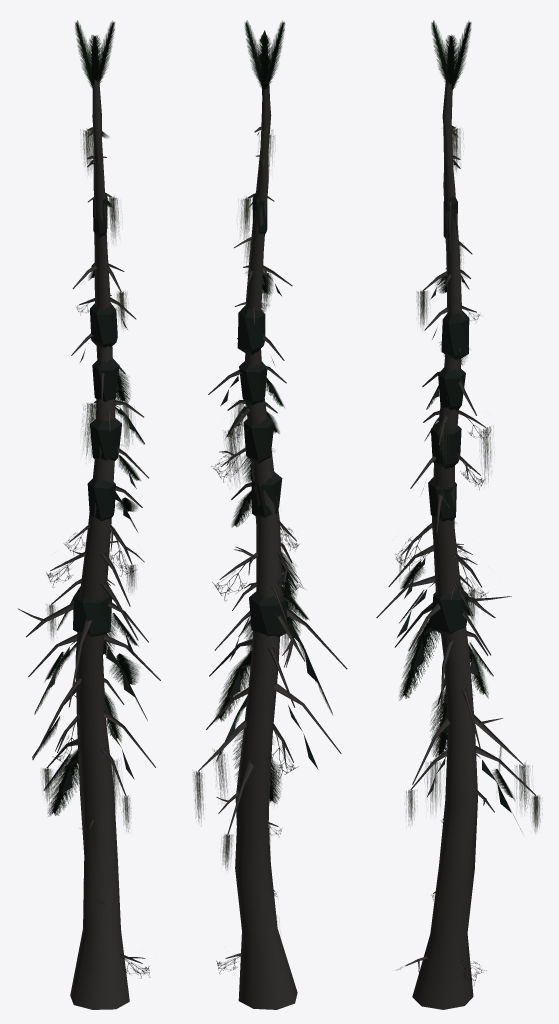
Rendered from Abeto_Oscuro_Esbelto.glb.
3 renders of one model, left to right at view 1: azimuth 30°, elevation 25°; view 2: azimuth 150°, elevation 25°; view 3: azimuth 270°, elevation 25°, orthographic.
Visible parts, largest first — view 1: Abeto_Oscuro_Esbelto; view 2: Abeto_Oscuro_Esbelto; view 3: Abeto_Oscuro_Esbelto.
Part boxes in pixels (bbox=[...]): Abeto_Oscuro_Esbelto: bbox=[17, 20, 160, 1009]; Abeto_Oscuro_Esbelto: bbox=[192, 20, 347, 1009]; Abeto_Oscuro_Esbelto: bbox=[376, 20, 542, 1009].
Bounding box in the file's own units: 2.88 × 20.02 × 3.15.
Materials: 9 (5 with a texture image).
